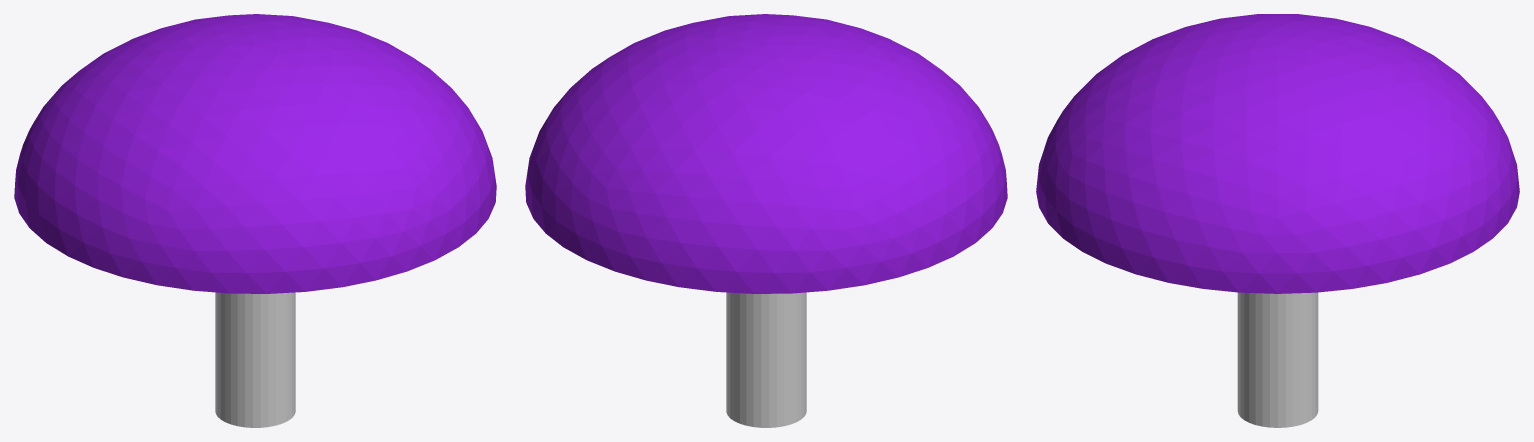
File: littleMushroom.fbx
The picture shows the model from 3 angles, left to right: view 1: azimuth 30°, elevation 25°; view 2: azimuth 150°, elevation 25°; view 3: azimuth 270°, elevation 25°; orthographic projection.
Visible parts, largest first — view 1: Mushroom; view 2: Mushroom; view 3: Mushroom.
Part boxes in pixels (left/top/right/bottom): Mushroom: left=14, top=14, right=496, bottom=427; Mushroom: left=525, top=14, right=1007, bottom=427; Mushroom: left=1036, top=14, right=1519, bottom=427.
Bounding box in the file's own units: 180 × 150 × 180.
